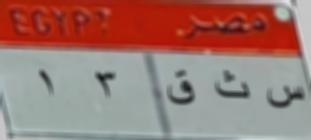1: (24, 63, 67, 111)
3: (87, 64, 123, 108)
qaaf: (159, 67, 202, 115)
seen: (262, 77, 307, 118)
thaa: (209, 69, 254, 105)
